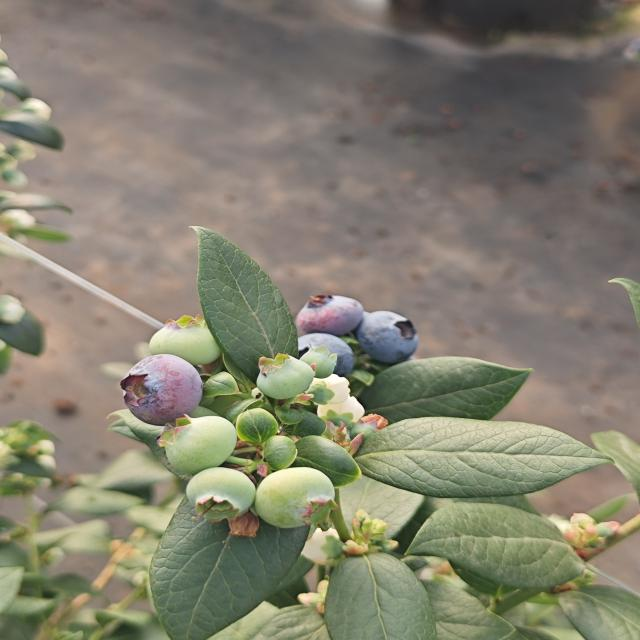ripe: (353, 306, 428, 364), (284, 330, 363, 380)
